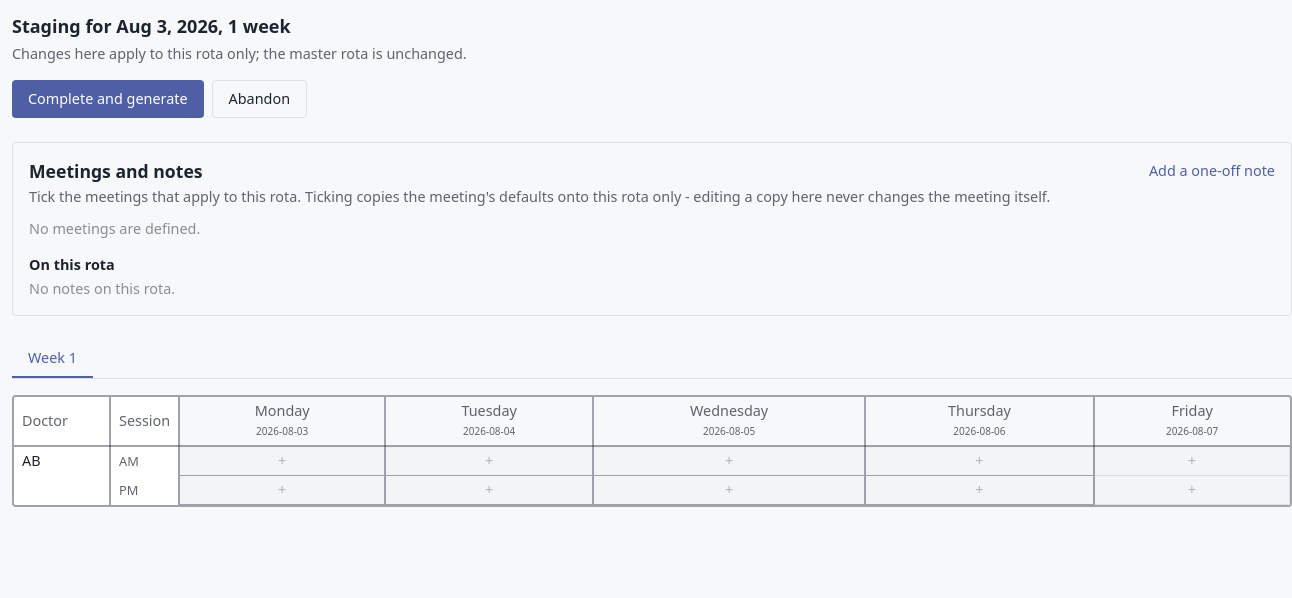
Test case: StagingPage › renders a Phase 0 validation-issue list when complete returns 422
Check: the heading "Staging for Aug 3, 2026, 1 week" is shown, box [12,14,291,38]
Step 1. Click the button "Complete and generate" → click(108, 99), box [12,80,204,118]
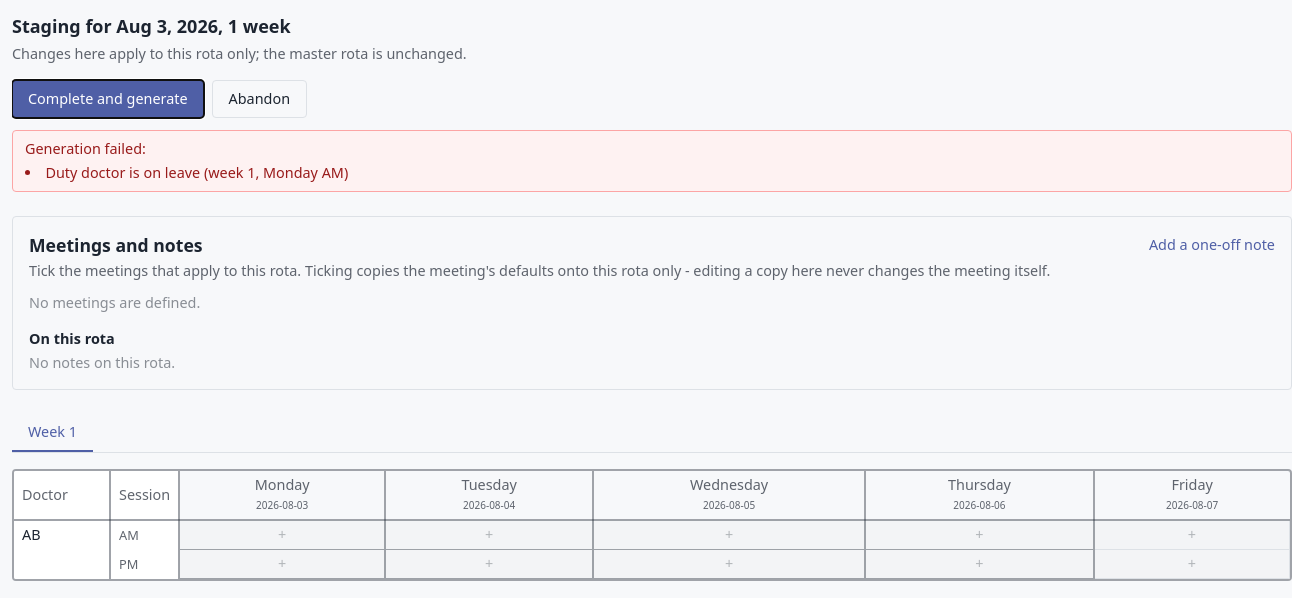
Check: the list item "Duty doctor is on leave (week 1, Monday AM)" is shown, box [45,163,348,182]
